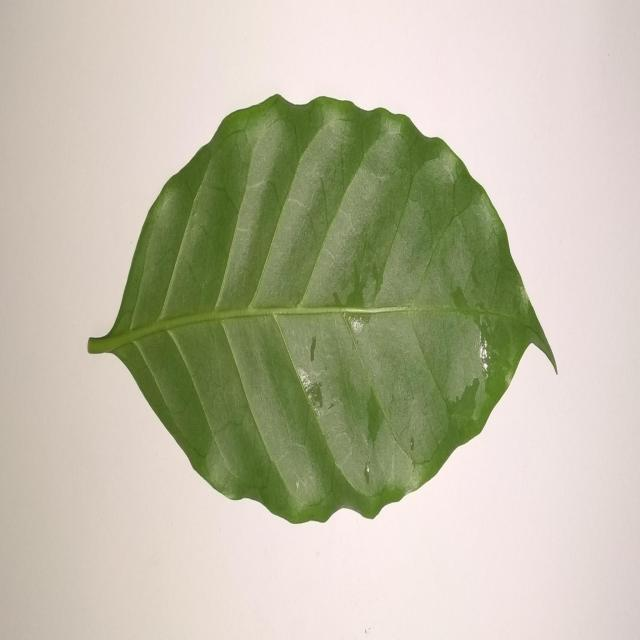Sanas: (86, 95, 556, 526)
